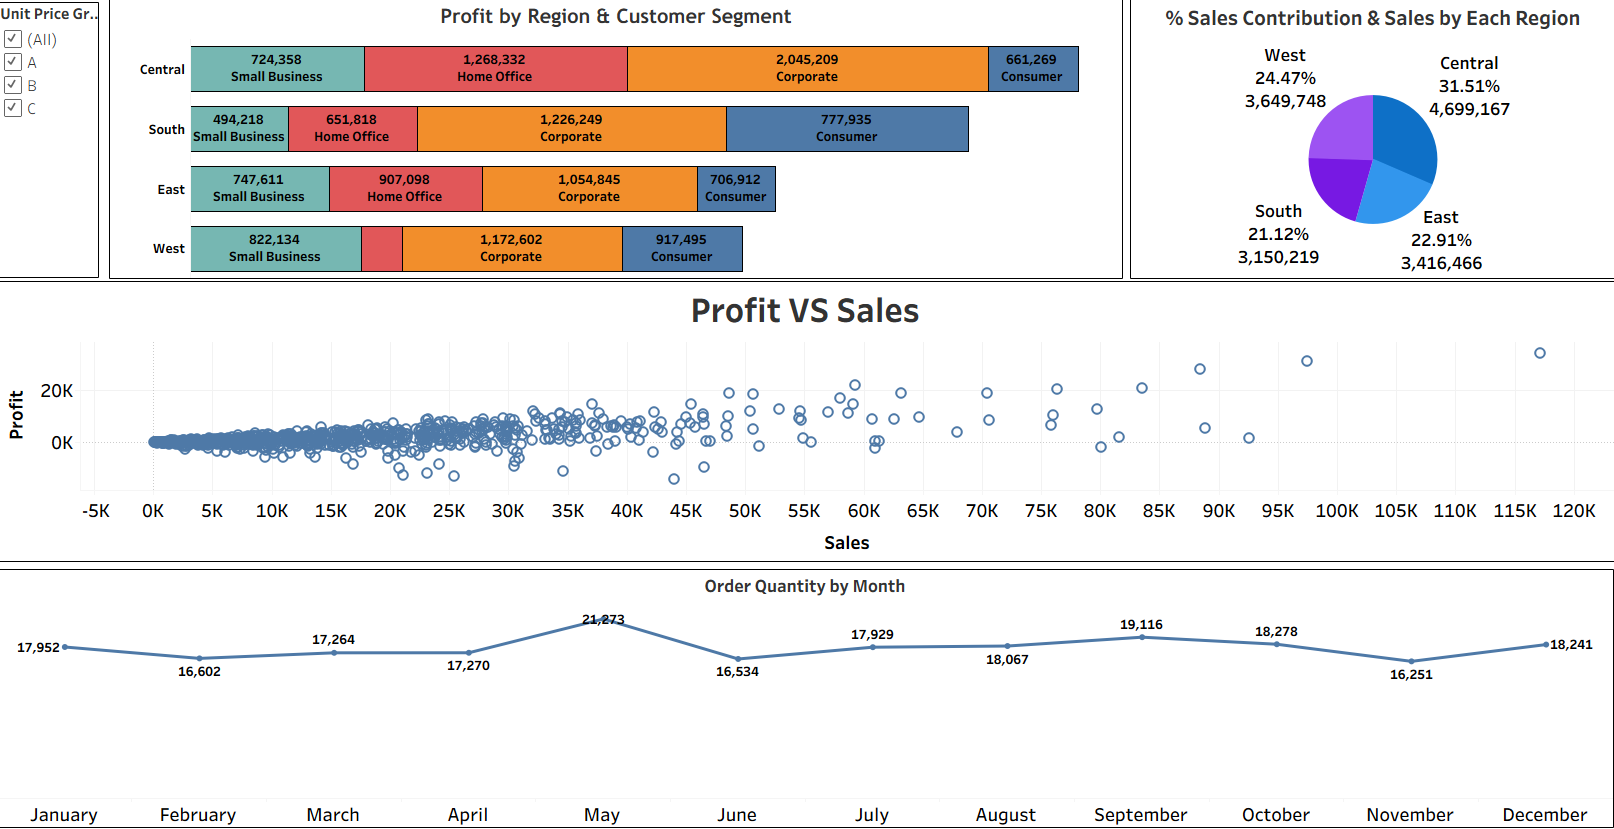

The dashboard page shown, as its layout file describes it:
{"tool":"tableau","page":{"name":"Dashboard 1","canvas":[1000,1000],"units":"permille","ordinal":0},"visuals":[{"type":"worksheet","title":"Creating & Formatting Pie Chart","mark":"Pie","box":[691.3,13.7,294.7,327.1]},{"type":"worksheet","title":"Creating & Formatting Bar Chart","mark":"Automatic","rows":["Region"],"cols":["Profit"],"box":[72.6,15,614.4,325.8]},{"type":"filter","title":"Creating & Formatting Line Chart","param":"[federated.09innvf0wu2qal14bkdjk03ney00].[none:Calculation_1813678175485952:nk]","box":[4.3,18.7,62.2,320.9]},{"type":"worksheet","title":"Creating & Formatting Scatter Plot","mark":"Automatic","rows":["Profit"],"cols":["Sales"],"box":[3.7,343.3,981.6,327.1]},{"type":"worksheet","title":"Creating & Formatting Line Chart","mark":"Automatic","rows":["Order Quantity"],"cols":["Order Date"],"box":[4.3,677.9,980.3,300.9]}]}

Visuals, with their boxes on the dashboard's canvas, which has no fixed pixel size, in thousandths of its width and height (x1, y1, x2, y2). These are canvas units, not pixel positions in the 1614x829 screenshot, which may show the page scaled, cropped or inside an application window:
"Creating & Formatting Pie Chart" worksheet (Pie marks): 691/14/986/341
"Creating & Formatting Bar Chart" worksheet: 73/15/687/341
"Creating & Formatting Line Chart" filter: 4/19/66/340
"Creating & Formatting Scatter Plot" worksheet: 4/343/985/670
"Creating & Formatting Line Chart" worksheet: 4/678/985/979
